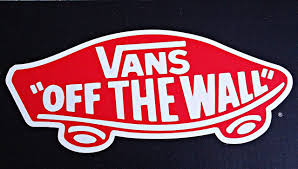vans: (94, 41, 190, 78)
